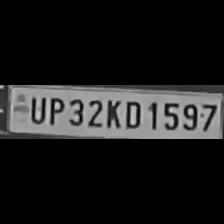1: (142, 98, 158, 132)
2: (85, 96, 103, 128)
3: (66, 96, 84, 127)
5: (159, 98, 179, 132)
7: (198, 101, 216, 133)
9: (180, 100, 198, 132)
D: (120, 97, 142, 130)
K: (103, 97, 121, 131)
P: (46, 94, 64, 126)
U: (27, 94, 46, 124)
